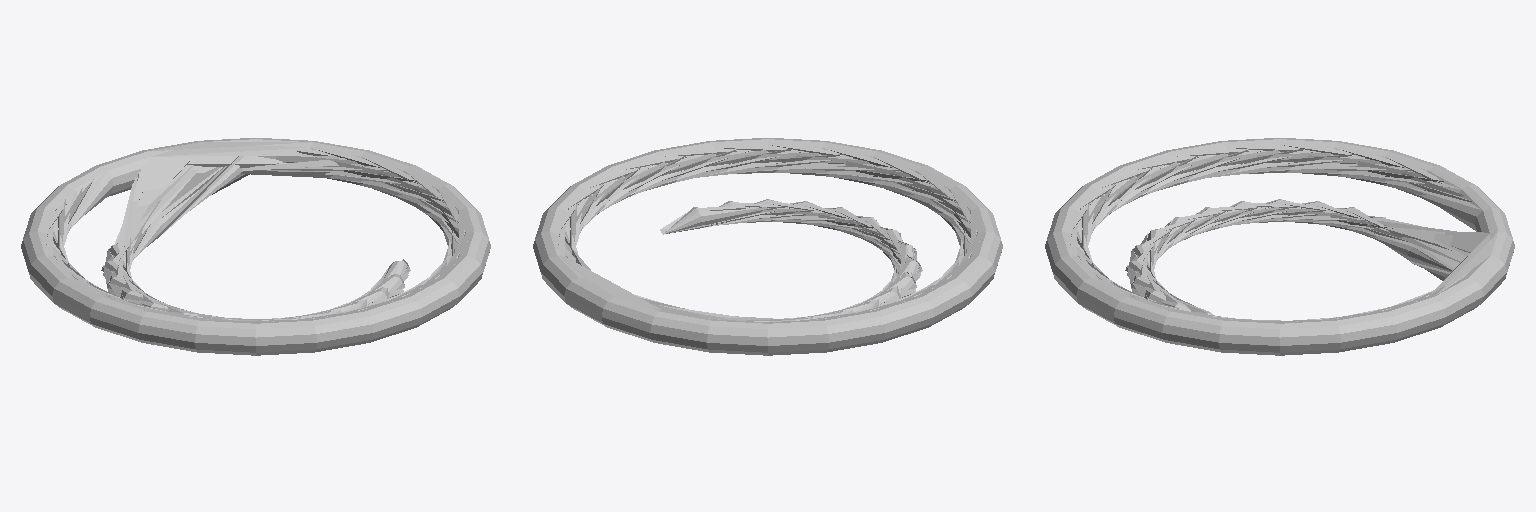
Rendered from Magnet Console.obj.
3 views of the same model, side by side, from view 1: azimuth 30°, elevation 25°; view 2: azimuth 150°, elevation 25°; view 3: azimuth 270°, elevation 25° (orthographic).
Parts seen in each view (by area): view 1: Sphere012, Torus003, Spindle001; view 2: Sphere012, Torus003, Spindle001; view 3: Sphere012, Torus003, Spindle001.
Part boxes in pixels (left/top/right/bottom): Sphere012: left=38, top=139, right=473, bottom=323; Torus003: left=22, top=138, right=490, bottom=355; Spindle001: left=21, top=166, right=419, bottom=355; Sphere012: left=550, top=139, right=985, bottom=355; Torus003: left=533, top=138, right=1002, bottom=355; Spindle001: left=707, top=150, right=994, bottom=355; Sphere012: left=1062, top=139, right=1497, bottom=323; Torus003: left=1045, top=138, right=1514, bottom=355; Spindle001: left=1055, top=138, right=1498, bottom=232.
Size of the model in its own units: 40.65 by 4.68 by 40.65.